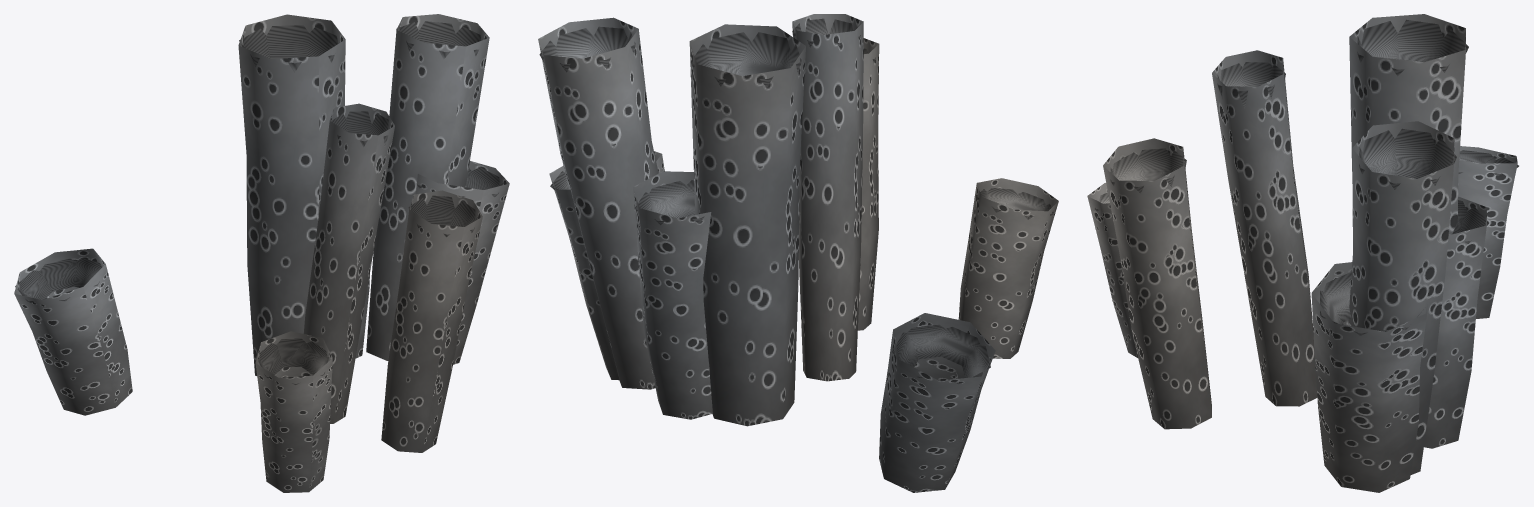
File: sea_tubes_l1.gltf
The picture shows the model from 3 angles, left to right: view 1: azimuth 30°, elevation 25°; view 2: azimuth 150°, elevation 25°; view 3: azimuth 270°, elevation 25°; orthographic projection. The views are drawn at different scales.
Visible parts, largest first — view 1: sea_tubes_l1; view 2: sea_tubes_l1; view 3: sea_tubes_l1.
Boxes of the visible parts, <box> form: sea_tubes_l1: <box>14,14,509,492</box>; sea_tubes_l1: <box>538,14,1058,492</box>; sea_tubes_l1: <box>1087,14,1518,492</box>.
Bounding box in the file's own units: 1.5 × 1.11 × 1.15.
Materials: 1 (1 with a texture image).
